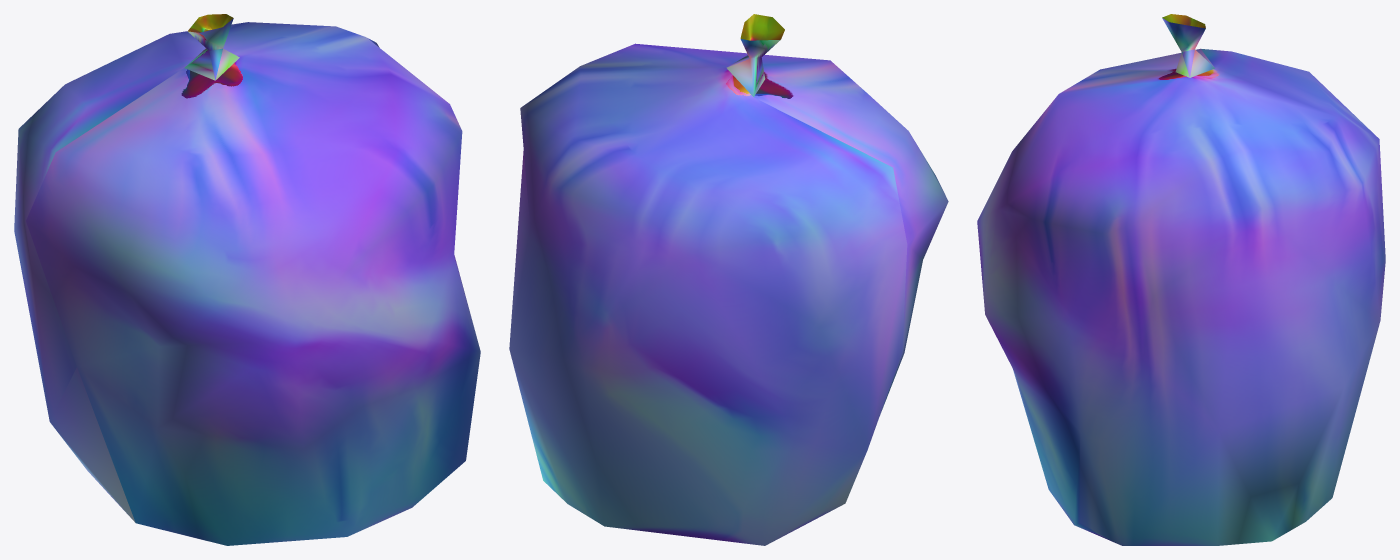
Rendered from garbage-bag.fbx.
3 views of the same model, side by side, from view 1: azimuth 30°, elevation 25°; view 2: azimuth 150°, elevation 25°; view 3: azimuth 270°, elevation 25° (orthographic). The views are drawn at different scales.
Visible parts, largest first — view 1: pCylinder7_orig_lowpoly; view 2: pCylinder7_orig_lowpoly; view 3: pCylinder7_orig_lowpoly.
Boxes of the visible parts, box(x1,y1,x2,y2) form: pCylinder7_orig_lowpoly: box(14, 14, 480, 545); pCylinder7_orig_lowpoly: box(509, 14, 948, 545); pCylinder7_orig_lowpoly: box(977, 14, 1385, 545).
Size of the model in its own units: 0.3351 by 0.3862 by 0.3208.
